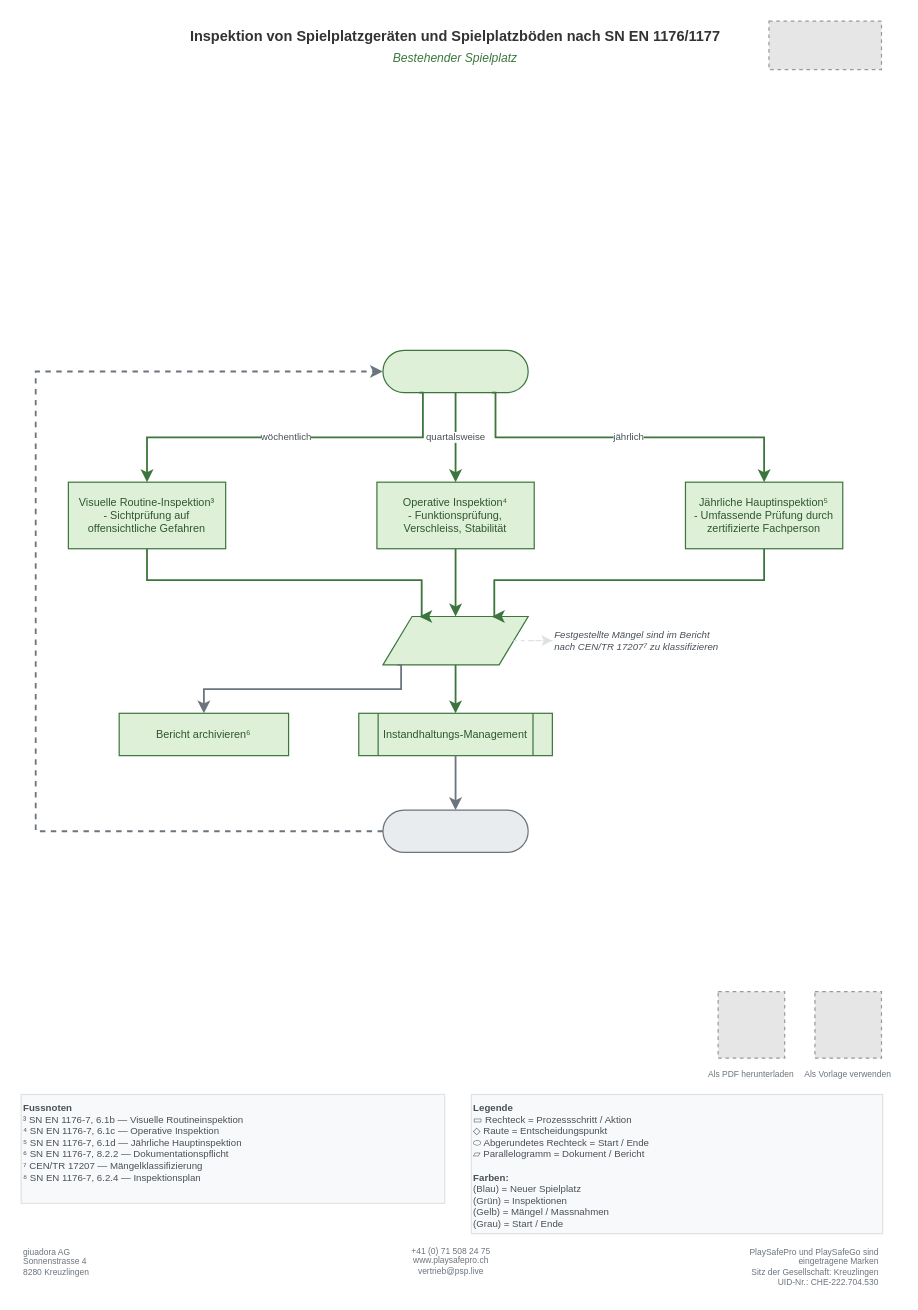
Some shapes in this 918 by 1310 pixel diagram are drawn without their labels. Grey dashed boxes stand in for pictures. Here are the shapes that lost their labels. From the top down, the centre of each, then its label:
(x=455, y=371): Inspektionszyklus beginnen
(x=455, y=640): Inspektionsbericht erstellen
(x=455, y=830): Nächster Inspektionszyklus gemäss Zeitplan⁸
